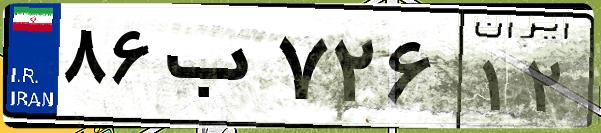1: (475, 38, 525, 113)
2: (330, 28, 385, 110), (525, 38, 570, 115)
6: (385, 28, 445, 110), (110, 28, 158, 98)
7: (270, 28, 330, 110)
8: (57, 26, 110, 100)
ب: (158, 20, 270, 120)
